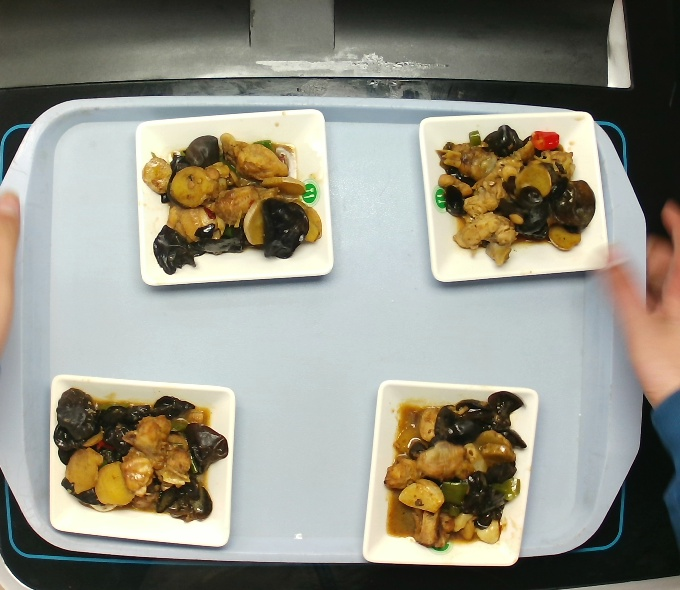wcq-MuErJiKuai: (144, 121, 322, 280), (50, 380, 229, 533), (435, 111, 593, 268), (386, 393, 527, 543)
